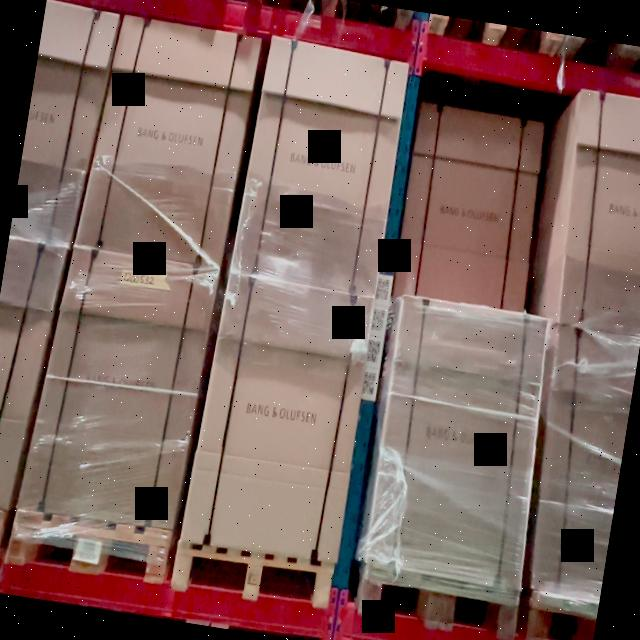box: (20, 245, 221, 533), (181, 273, 376, 562), (366, 297, 549, 593), (232, 36, 411, 296), (76, 16, 263, 263)
